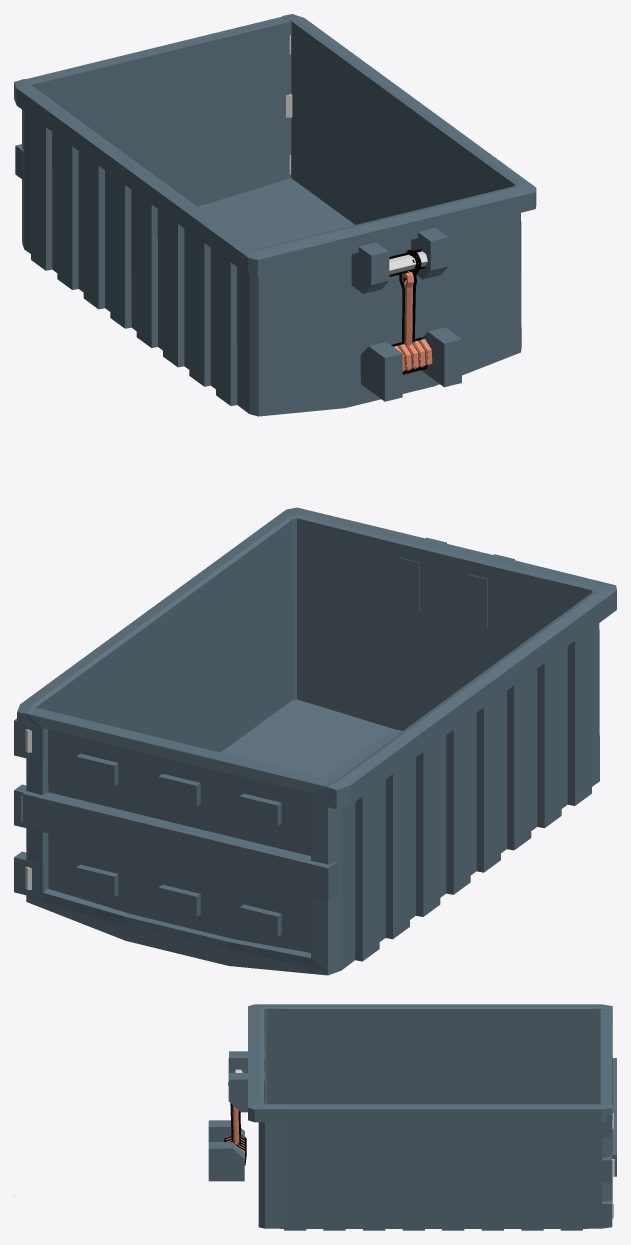
File: open_box.glb
3 renders of one model, top to bottom at view 1: azimuth 30°, elevation 25°; view 2: azimuth 150°, elevation 25°; view 3: azimuth 270°, elevation 25°, orthographic. The views are drawn at different scales.
Visible parts, largest first — view 1: Cube.1198_Outline_0, Cube.241_Outline_0, Cube.1201_Outline_0, Cube.1202_Outline_0, Cube.1199_Outline_0, Cube.1200_Outline_0, Cube.1213_Material.002_0; view 2: Cube.1198_Outline_0, Cube.241_Outline_0, Cube.1189_Outline_0, Cube.1199_Outline_0, Cube.1200_Outline_0, Cube.1196_Outline_0, Cube.1192_Outline_0, Cube.1193_Outline_0, Cube.1195_Outline_0, Cube.1191_Outline_0, Cube.1194_Outline_0; view 3: Cube.1198_Outline_0, Cube.1202_Outline_0, Cube.241_Outline_0, Cube.1200_Outline_0, Cube.1189_Outline_0, Cube.1201_Outline_0, Cube.1199_Outline_0.
Part boxes in pixels (<box>): Cube.1198_Outline_0: <box>14,14,536,416</box>; Cube.241_Outline_0: <box>26,17,291,206</box>; Cube.1201_Outline_0: <box>360,342,402,401</box>; Cube.1202_Outline_0: <box>421,327,461,387</box>; Cube.1199_Outline_0: <box>351,242,389,293</box>; Cube.1200_Outline_0: <box>411,228,448,279</box>; Cube.1213_Material.002_0: <box>402,271,413,345</box>; Cube.1198_Outline_0: <box>17,507,616,975</box>; Cube.241_Outline_0: <box>27,707,334,970</box>; Cube.1189_Outline_0: <box>22,791,337,901</box>; Cube.1199_Outline_0: <box>467,554,514,629</box>; Cube.1200_Outline_0: <box>399,537,446,612</box>; Cube.1196_Outline_0: <box>239,793,281,826</box>; Cube.1192_Outline_0: <box>76,864,118,897</box>; Cube.1193_Outline_0: <box>239,904,281,937</box>; Cube.1195_Outline_0: <box>76,753,118,786</box>; Cube.1191_Outline_0: <box>158,884,200,917</box>; Cube.1194_Outline_0: <box>158,773,200,806</box>; Cube.1198_Outline_0: <box>248,1004,612,1230</box>; Cube.1202_Outline_0: <box>208,1142,244,1181</box>; Cube.241_Outline_0: <box>600,1009,612,1202</box>; Cube.1200_Outline_0: <box>228,1073,264,1112</box>; Cube.1189_Outline_0: <box>612,1058,616,1176</box>; Cube.1201_Outline_0: <box>208,1120,244,1141</box>; Cube.1199_Outline_0: <box>228,1051,264,1079</box>.
Bounding box in the file's own units: 2.62 × 1.54 × 6.35.
